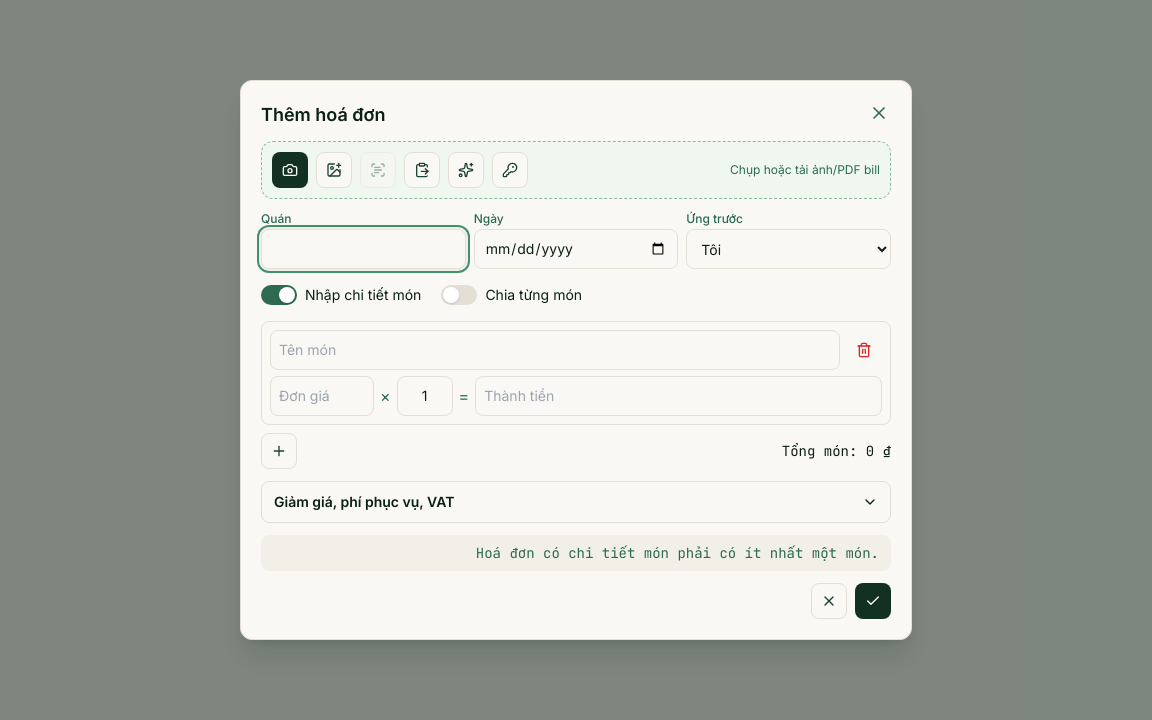
Test: InvoiceFormDialog — giao diện gọn › bấm Đọc bill bằng AI khi chưa có ảnh thì hỏi chụp hay tải ảnh
The image size is (1152, 720).
What coordinates should you click on to do the following:
click the button named "Đọc bill bằng AI"
I would click on:
 (466, 170)
Its box is [448, 152, 484, 188].
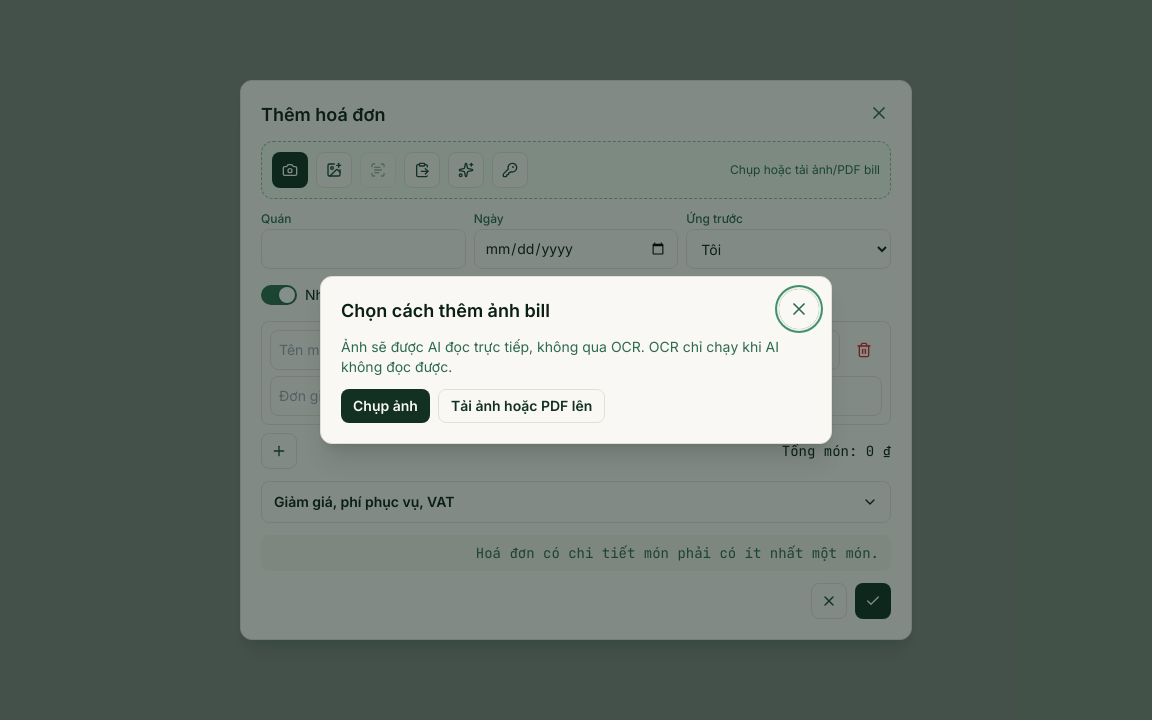
Check: the button "Chụp ảnh" is shown, box [341, 389, 430, 423]
Check: the button "Tải ảnh hoặc PDF lên" is shown, box [438, 389, 605, 423]
